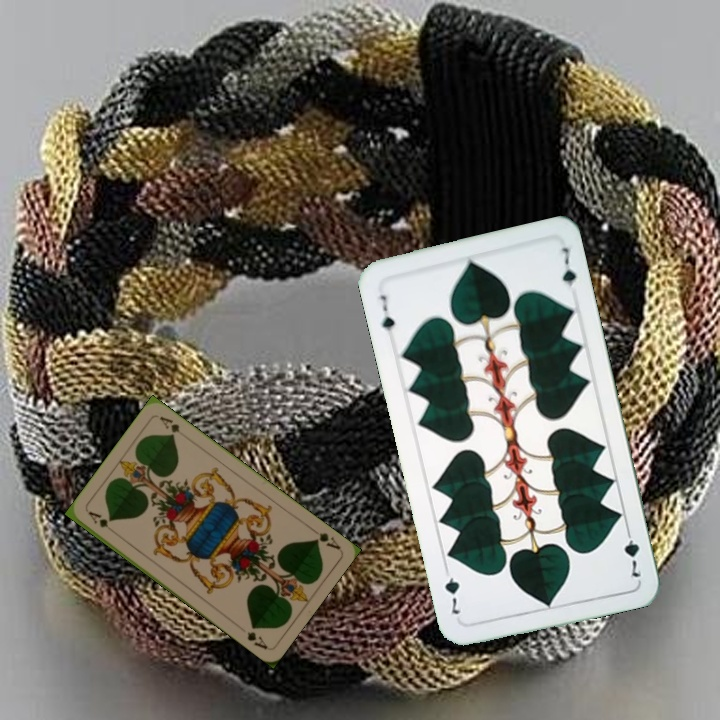G7: (620, 523, 644, 581), (376, 290, 398, 334)
GA: (84, 507, 119, 537), (307, 523, 343, 552)
